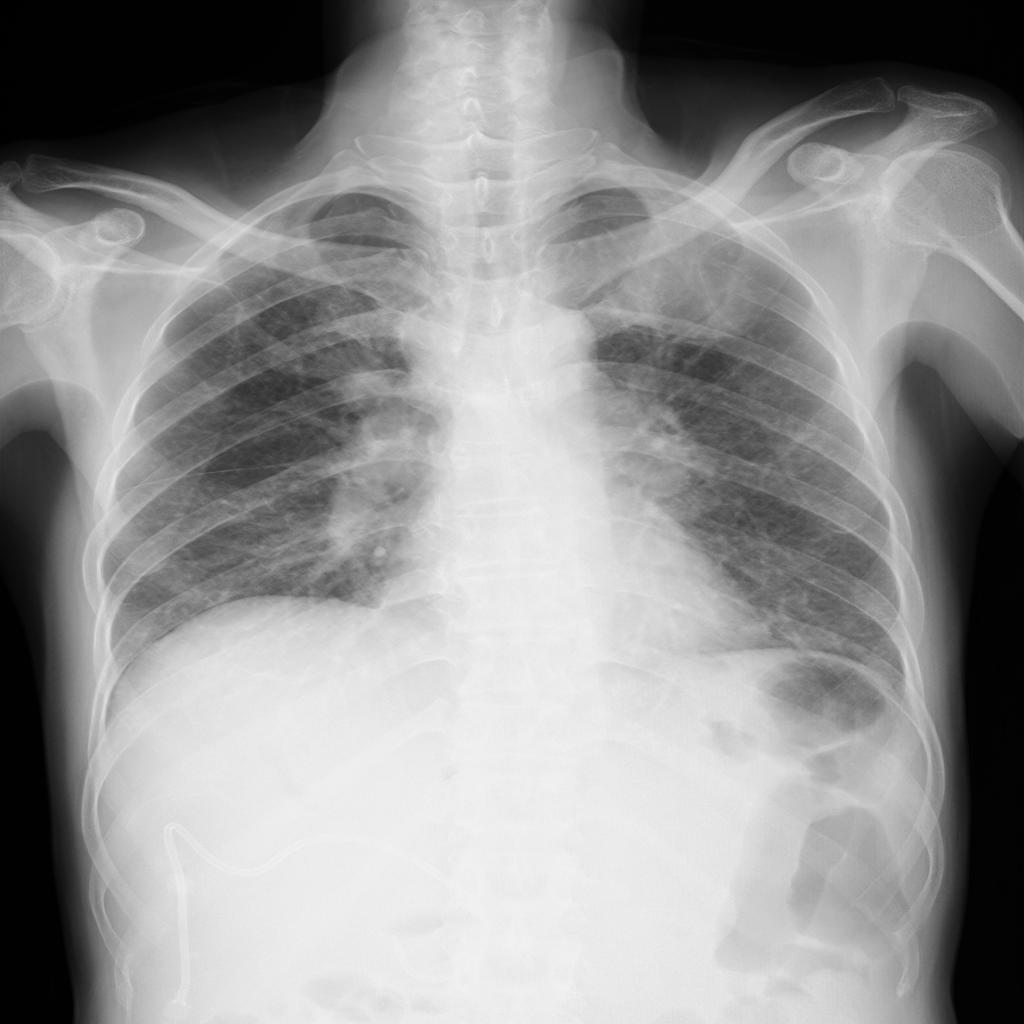Nodule: (595, 213, 763, 341)
